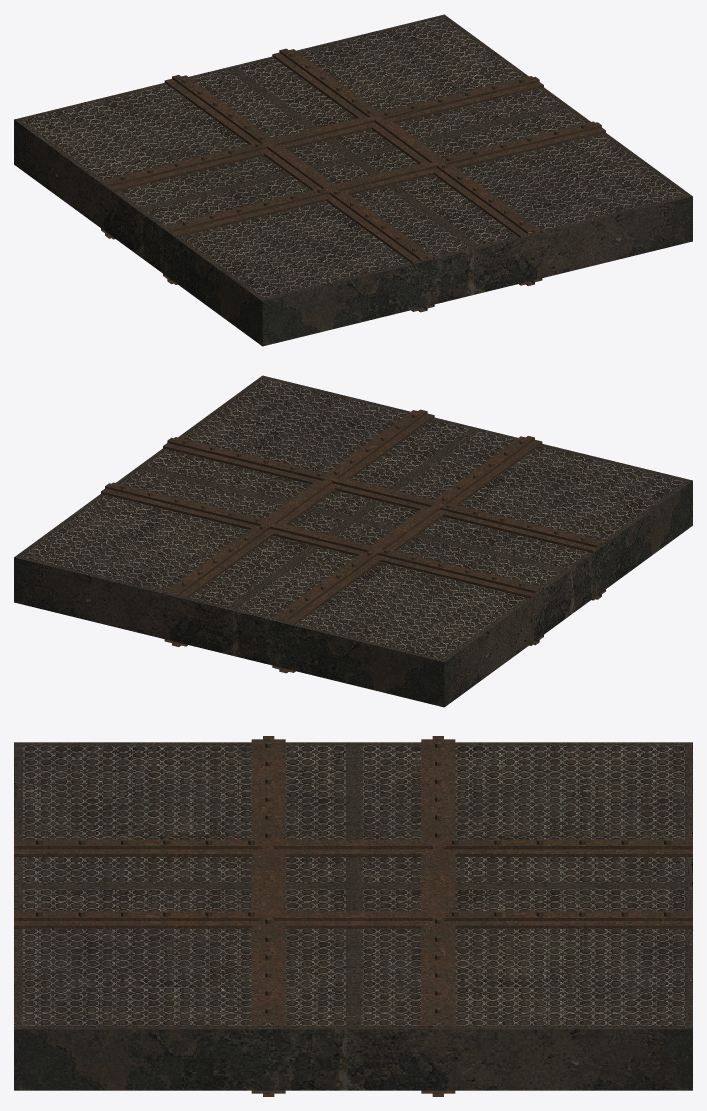
File: floor_ceiling_rtx_1.glb
The picture shows the model from 3 angles, top to bottom: view 1: azimuth 30°, elevation 25°; view 2: azimuth 150°, elevation 25°; view 3: azimuth 270°, elevation 25°; orthographic projection. The views are drawn at different scales.
Parts seen in each view (by area): view 1: floor_ceiling_rtx_1; view 2: floor_ceiling_rtx_1; view 3: floor_ceiling_rtx_1.
Part boxes in pixels (<box>): floor_ceiling_rtx_1: <box>14,14,692,346</box>; floor_ceiling_rtx_1: <box>14,375,692,707</box>; floor_ceiling_rtx_1: <box>14,736,692,1096</box>.
Size of the model in its own units: 4 by 0.5303 by 4.
3 materials, 3 textured.
